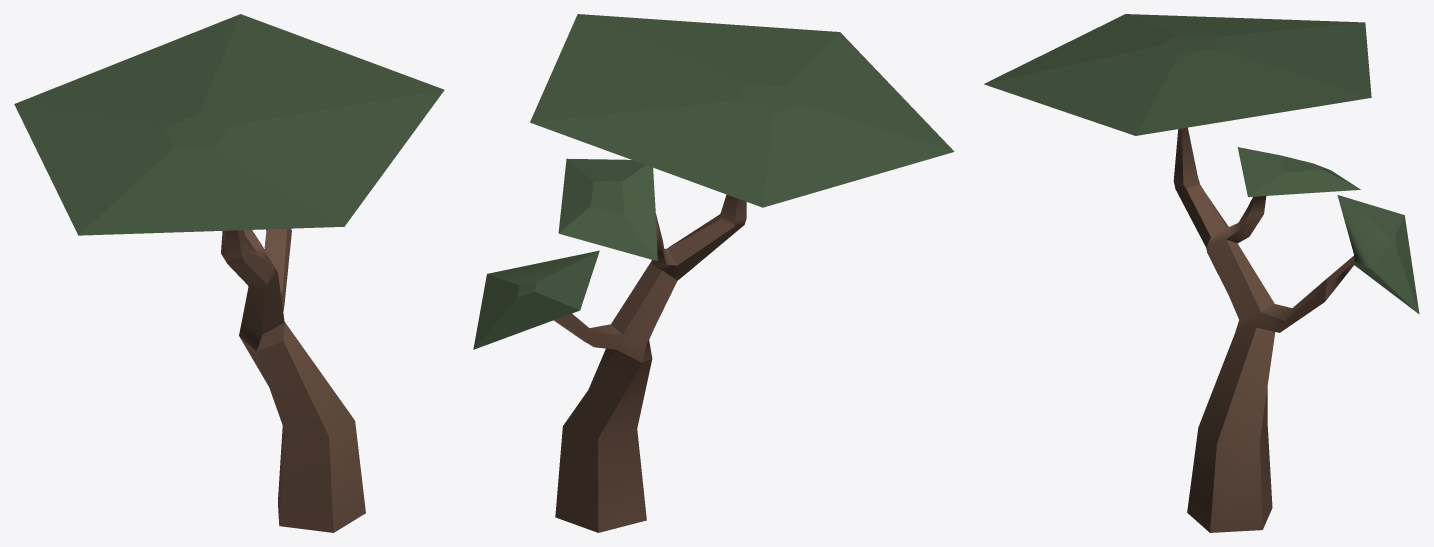
File: SavannahTree1.fbx
The picture shows the model from 3 angles, left to right: view 1: azimuth 30°, elevation 25°; view 2: azimuth 150°, elevation 25°; view 3: azimuth 270°, elevation 25°; orthographic projection. The views are drawn at different scales.
Visible parts, largest first — view 1: pCylinder3; view 2: pCylinder3; view 3: pCylinder3.
Part boxes in pixels (left/top/right/bottom): pCylinder3: left=14, top=14, right=444, bottom=532; pCylinder3: left=473, top=14, right=954, bottom=532; pCylinder3: left=984, top=14, right=1419, bottom=532.
Bounding box in the file's own units: 9.05 × 10.36 × 9.81.
